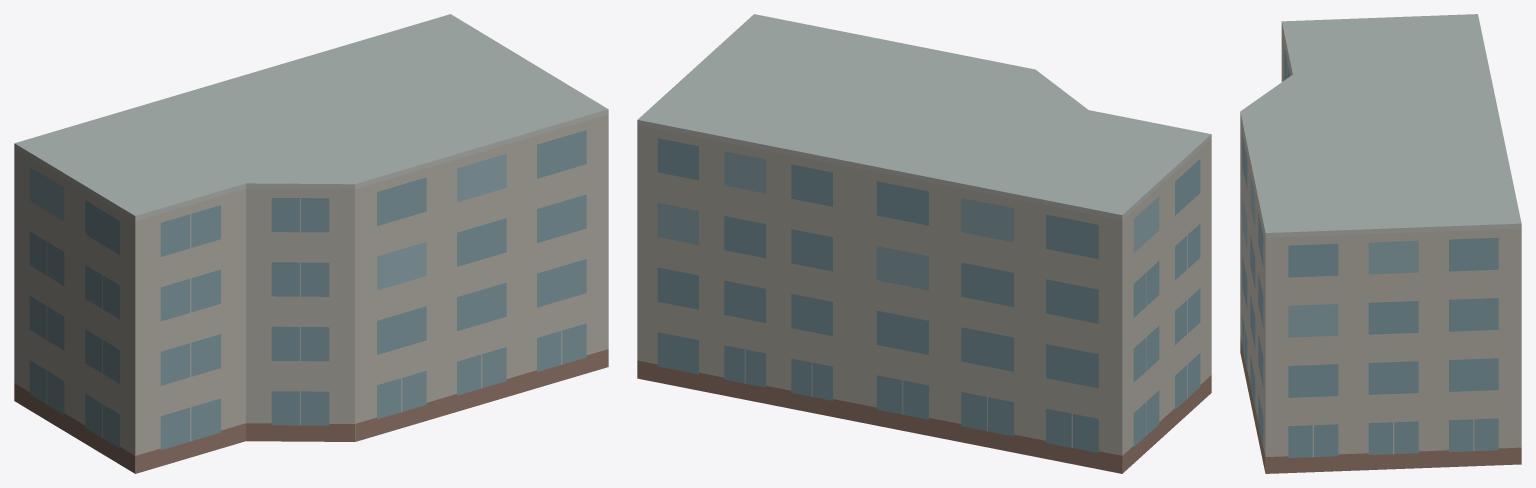
File: residential-6a6621df-47b4-47dd-8172-c55f65d0b1d4.glb
3 renders of one model, left to right at view 1: azimuth 30°, elevation 25°; view 2: azimuth 150°, elevation 25°; view 3: azimuth 270°, elevation 25°, orthographic. The views are drawn at different scales.
Visible parts, largest first — view 1: residential-6a6621df-47b4-47dd-8172-c55f65d0b1d4.tmp; view 2: residential-6a6621df-47b4-47dd-8172-c55f65d0b1d4.tmp; view 3: residential-6a6621df-47b4-47dd-8172-c55f65d0b1d4.tmp.
Boxes of the visible parts, x1,y1,x2,y2 form: residential-6a6621df-47b4-47dd-8172-c55f65d0b1d4.tmp: (14, 14, 608, 473); residential-6a6621df-47b4-47dd-8172-c55f65d0b1d4.tmp: (637, 14, 1211, 473); residential-6a6621df-47b4-47dd-8172-c55f65d0b1d4.tmp: (1240, 14, 1521, 473).
Bounding box in the file's own units: 23.81 × 12.2 × 12.93.
